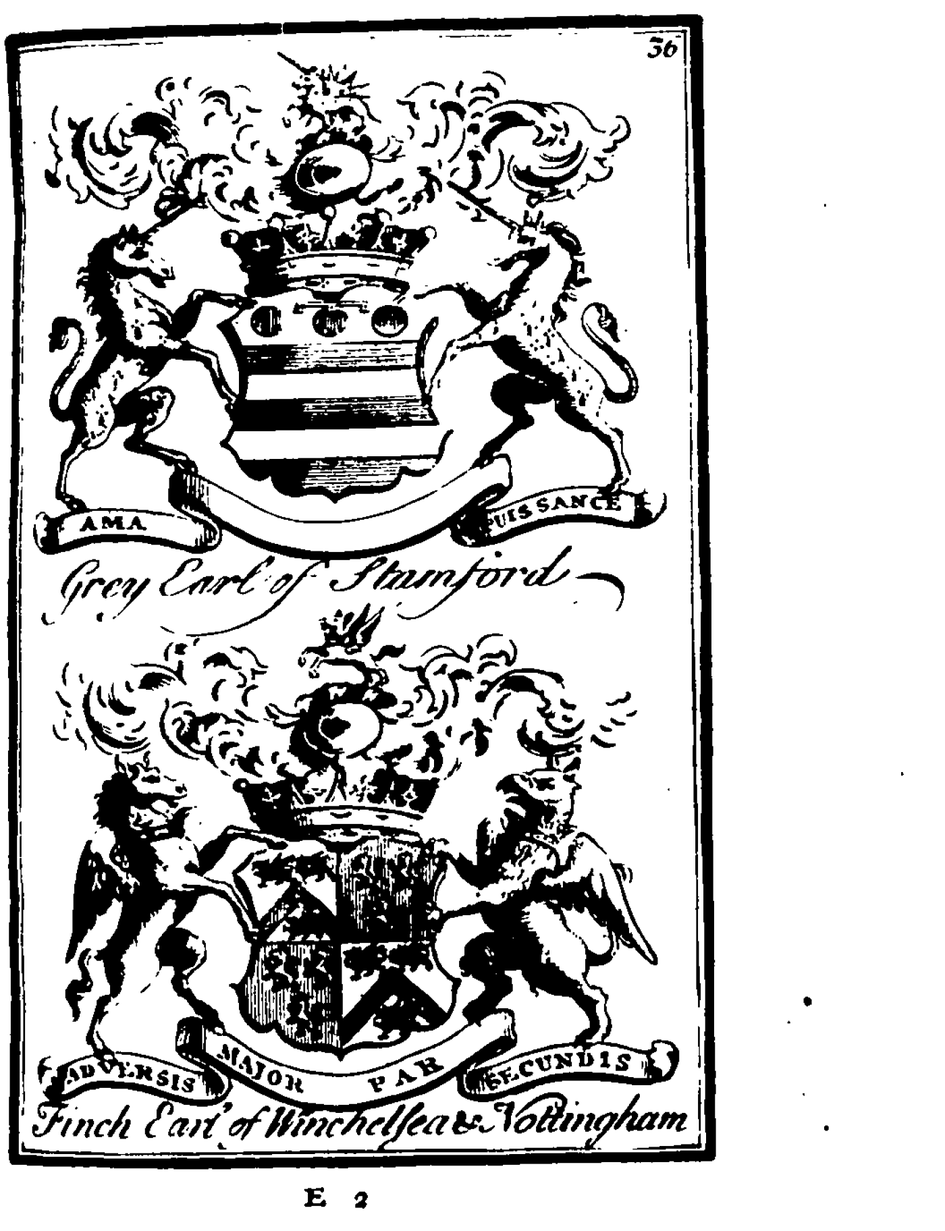coat_of_arms: (28, 52, 676, 618), (20, 620, 700, 1141)
